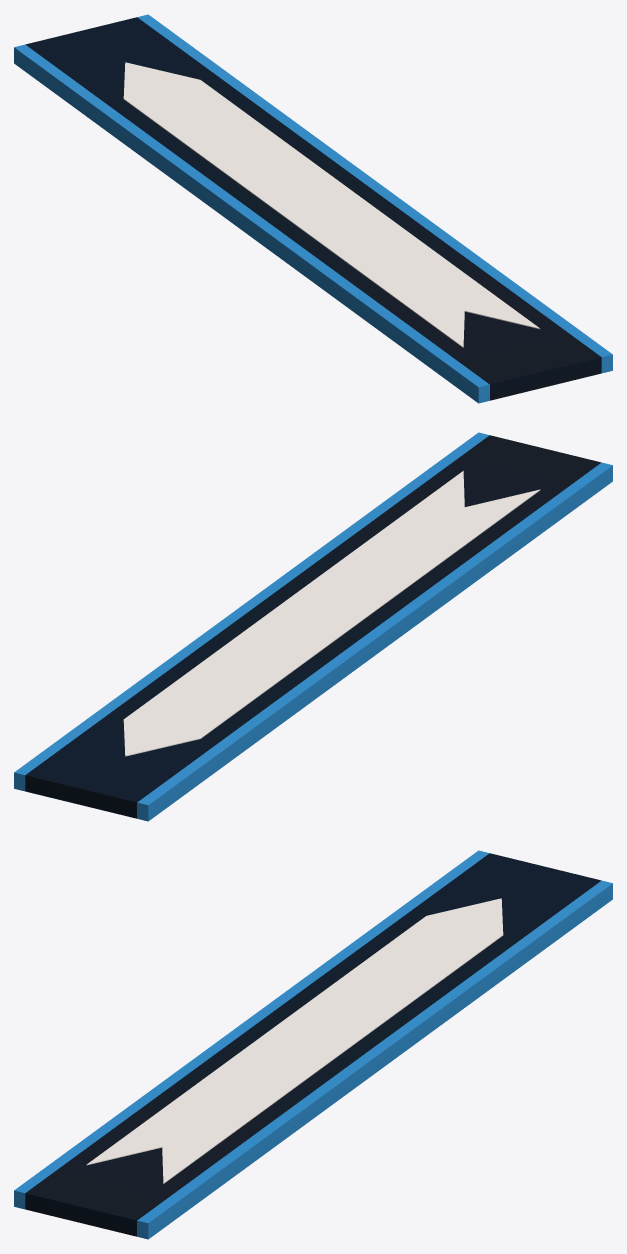
Rendered from conveyor_belt.fbx.
The picture shows the model from 3 angles, top to bottom: view 1: azimuth 30°, elevation 25°; view 2: azimuth 150°, elevation 25°; view 3: azimuth 330°, elevation 25°; orthographic projection.
Parts seen in each view (by area): view 1: conveyor_belt; view 2: conveyor_belt; view 3: conveyor_belt.
Boxes of the visible parts, x1=… form: conveyor_belt: x1=14, y1=14, x2=612, y2=403; conveyor_belt: x1=14, y1=432, x2=612, y2=821; conveyor_belt: x1=14, y1=850, x2=612, y2=1239.
Bounding box in the file's own units: 1.3 × 0.1577 × 7.78.
